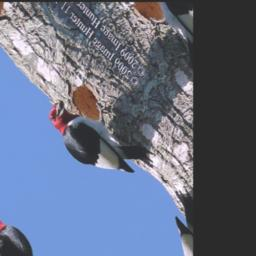Woodpecker: (36, 61, 162, 215)
